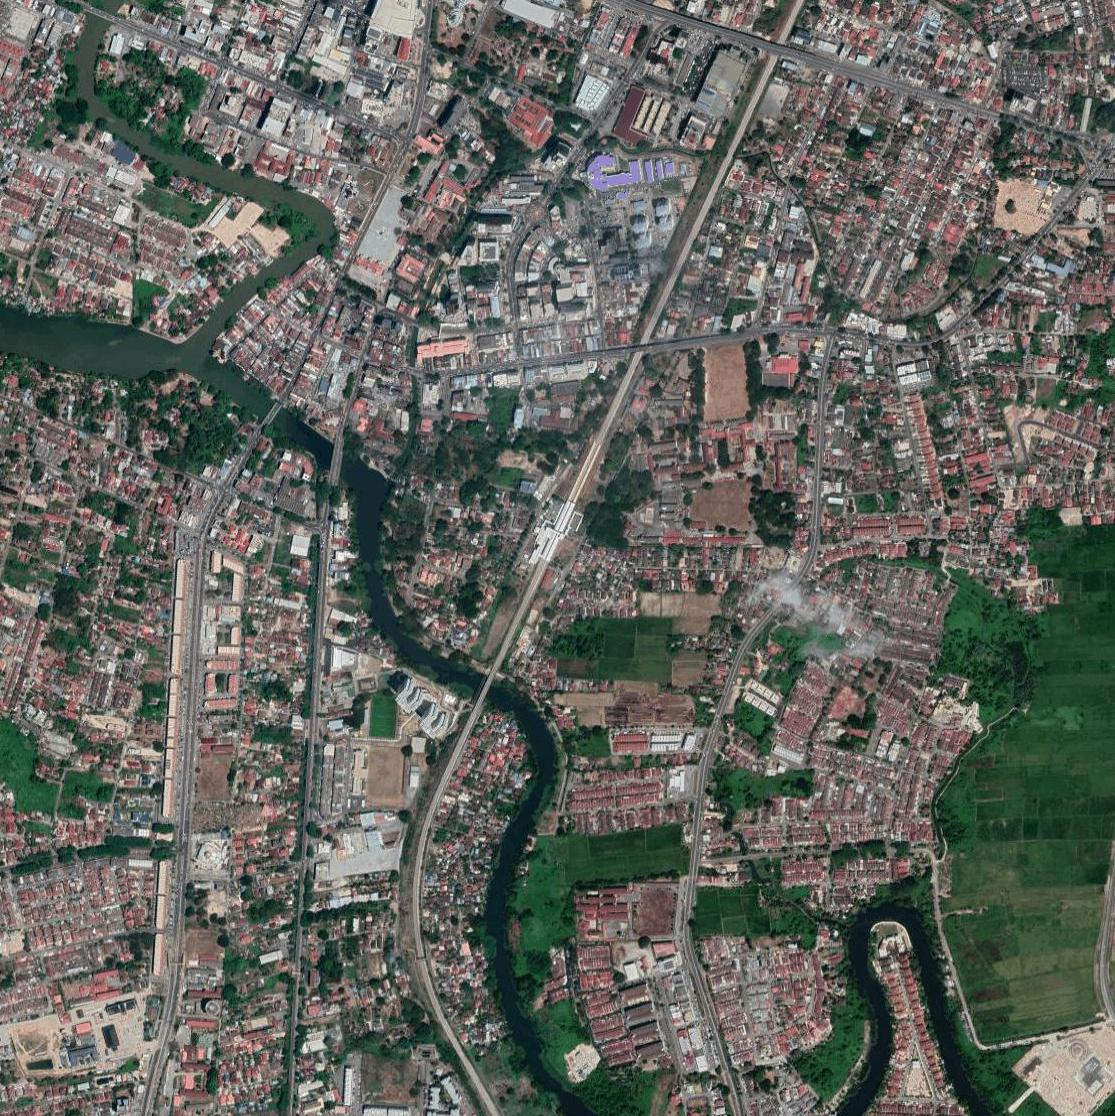train_station: (540, 496, 578, 556)
